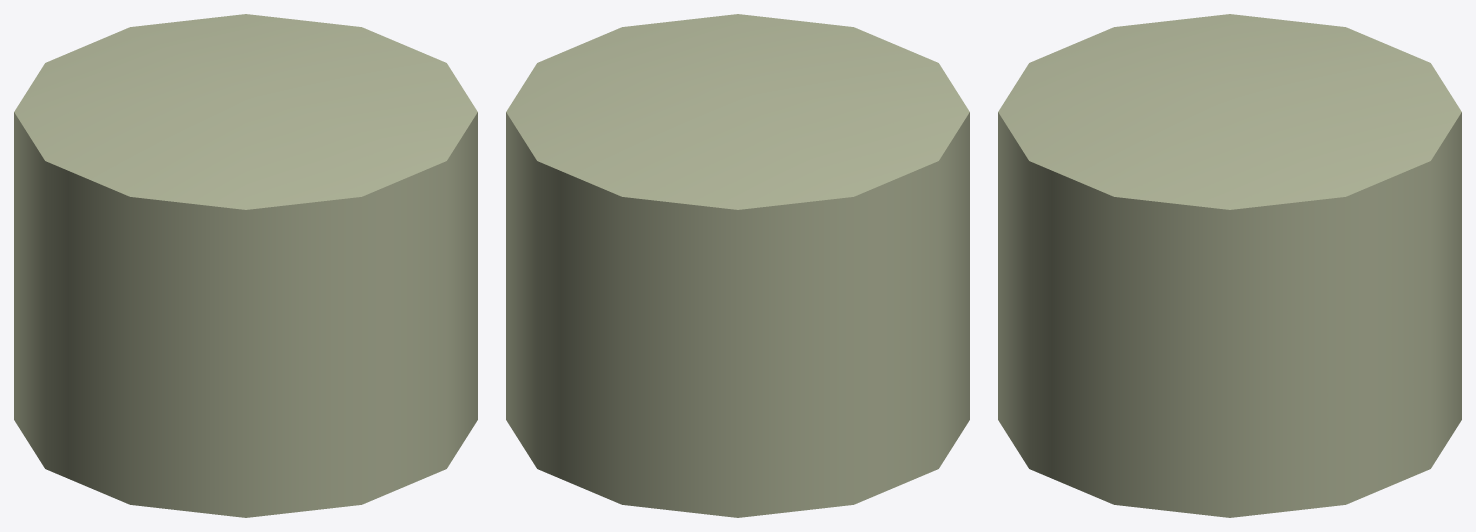
File: SM_SprayCan_Lid_01c.FBX
3 renders of one model, left to right at view 1: azimuth 30°, elevation 25°; view 2: azimuth 150°, elevation 25°; view 3: azimuth 270°, elevation 25°, orthographic.
Parts seen in each view (by area): view 1: SM_SprayCan_Lid_01c_LOD0; view 2: SM_SprayCan_Lid_01c_LOD0; view 3: SM_SprayCan_Lid_01c_LOD0.
Part boxes in pixels (x1,y1,x2,y2): SM_SprayCan_Lid_01c_LOD0: [14, 14, 477, 517]; SM_SprayCan_Lid_01c_LOD0: [506, 14, 969, 517]; SM_SprayCan_Lid_01c_LOD0: [998, 14, 1461, 517].
Size of what is drawn, in the model's own units: 6.38 by 4.95 by 6.38.
